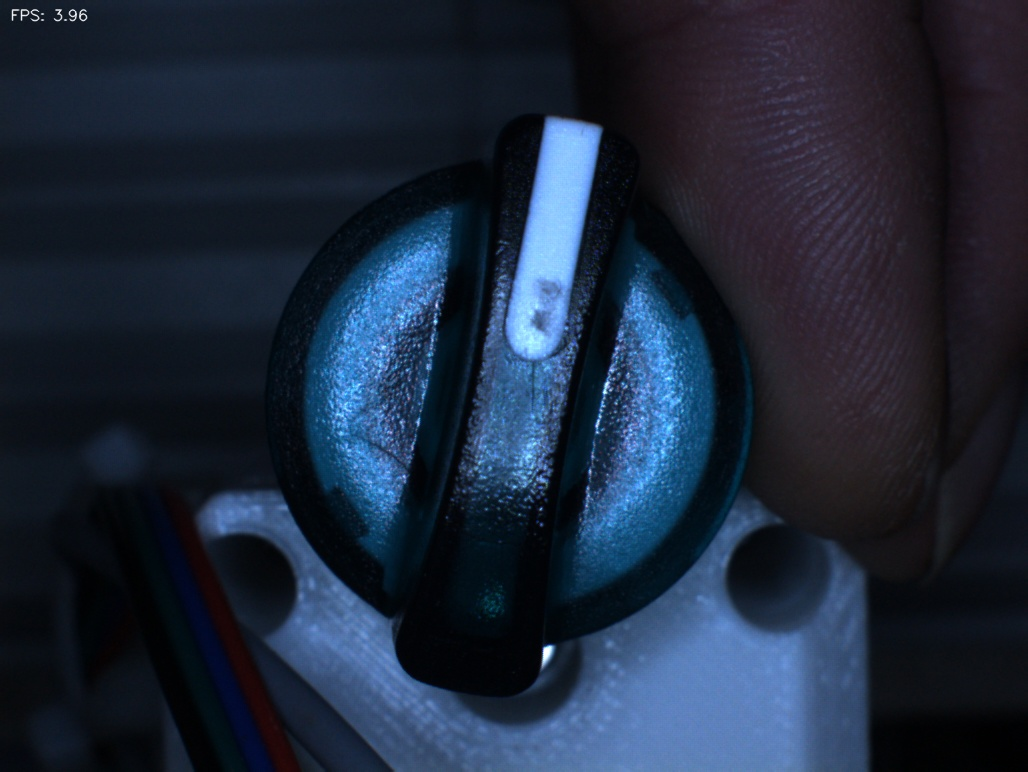PointNoir: (503, 261, 602, 363)
